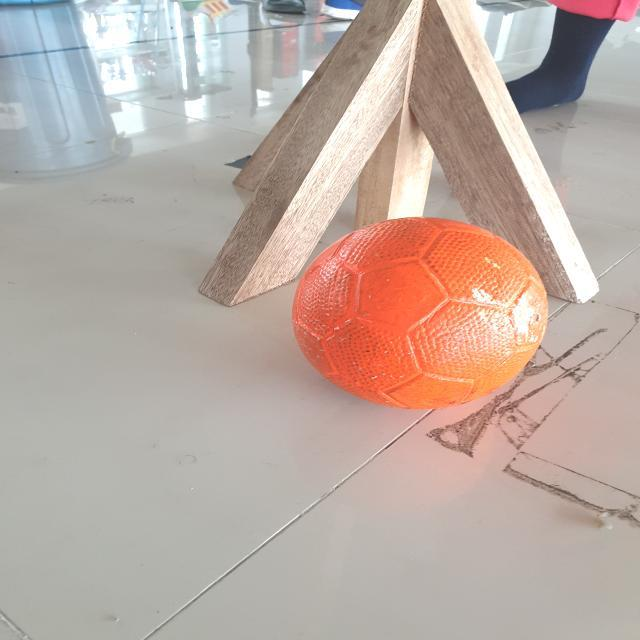bola: (276, 192, 570, 424)
